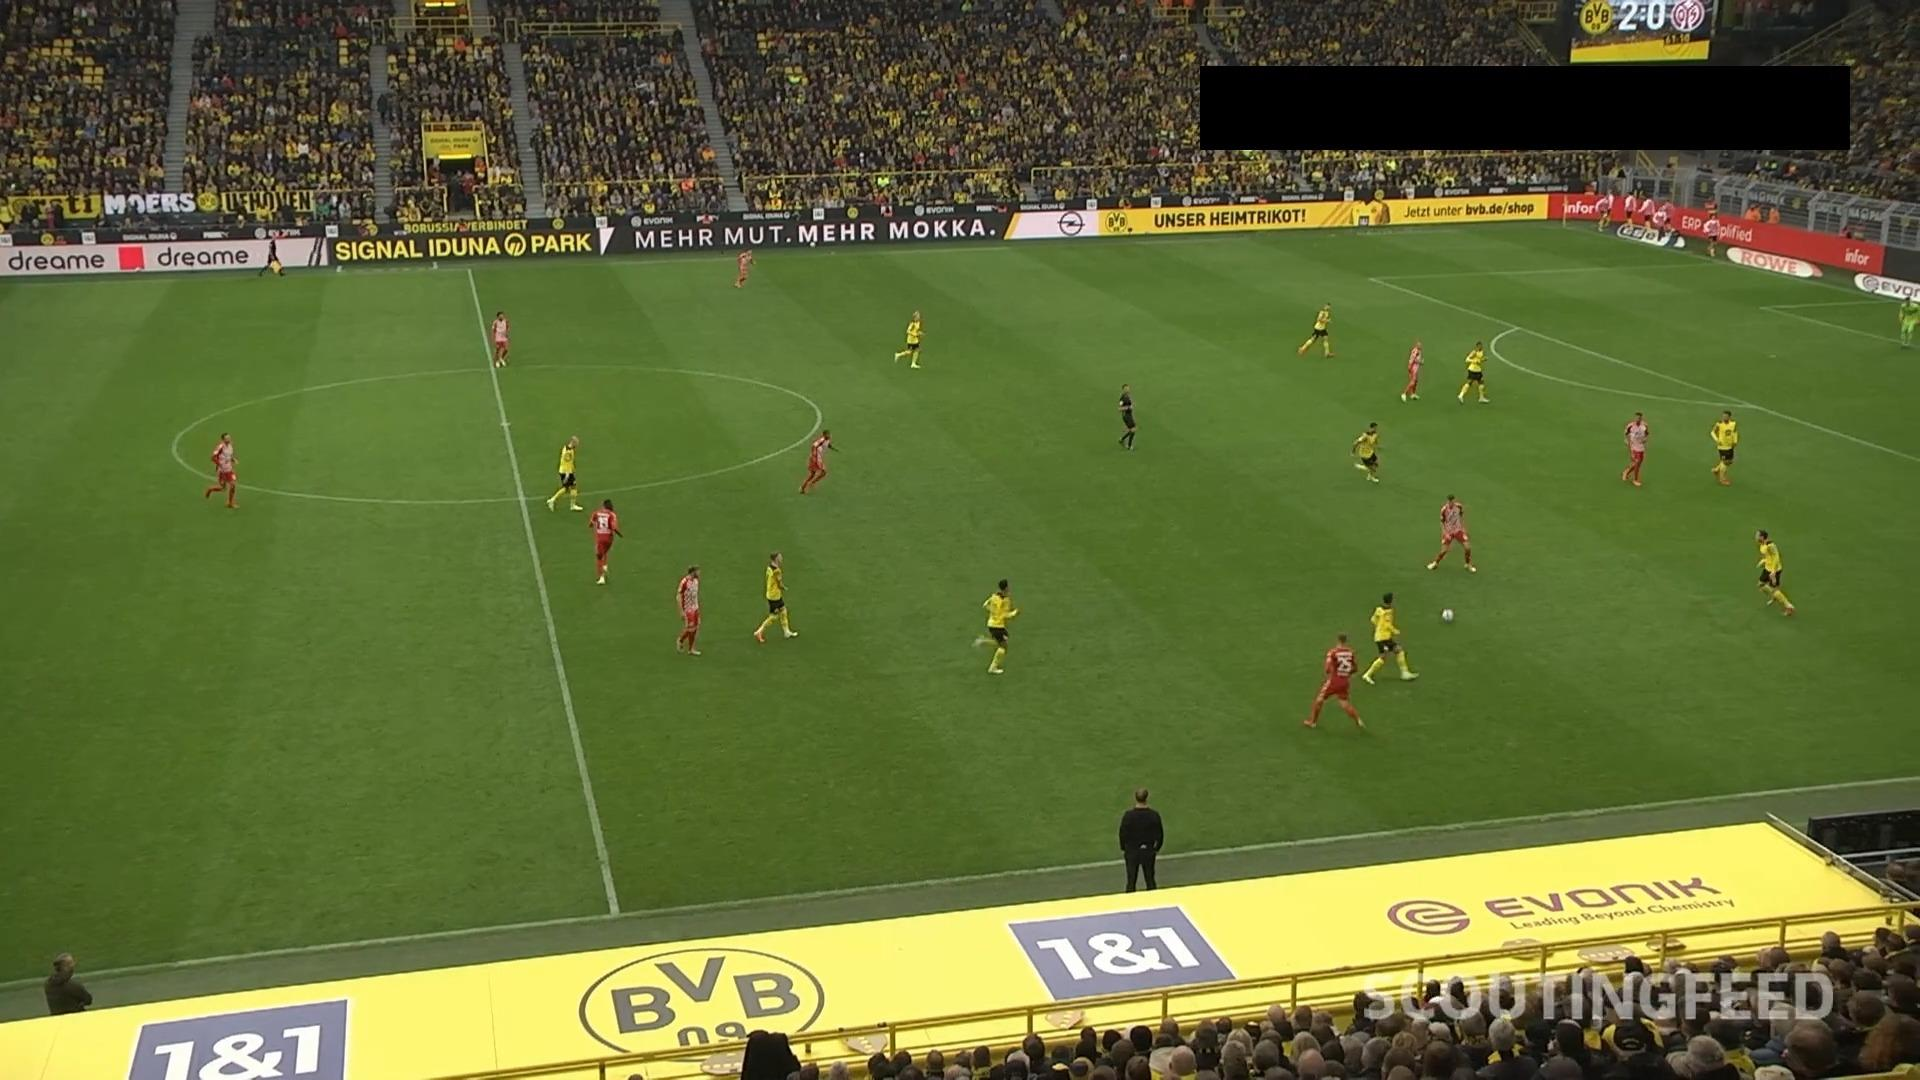ball: (1440, 605, 1457, 625)
